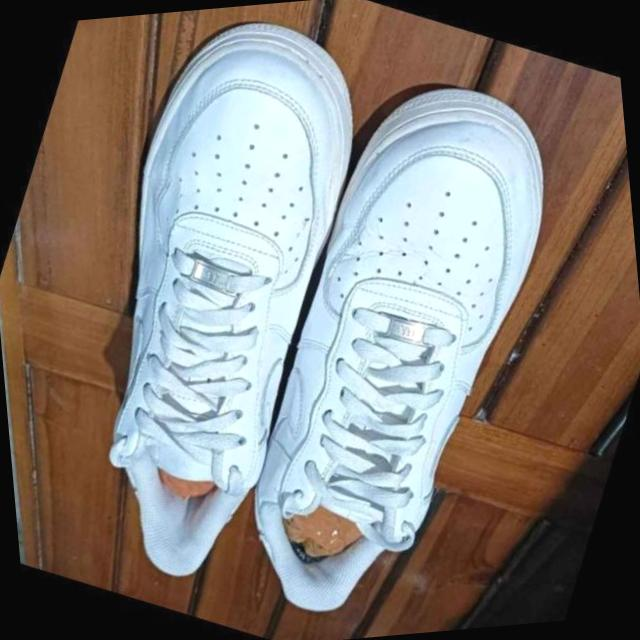nike_fake_airforce: (178, 45, 616, 640), (0, 0, 425, 604)
